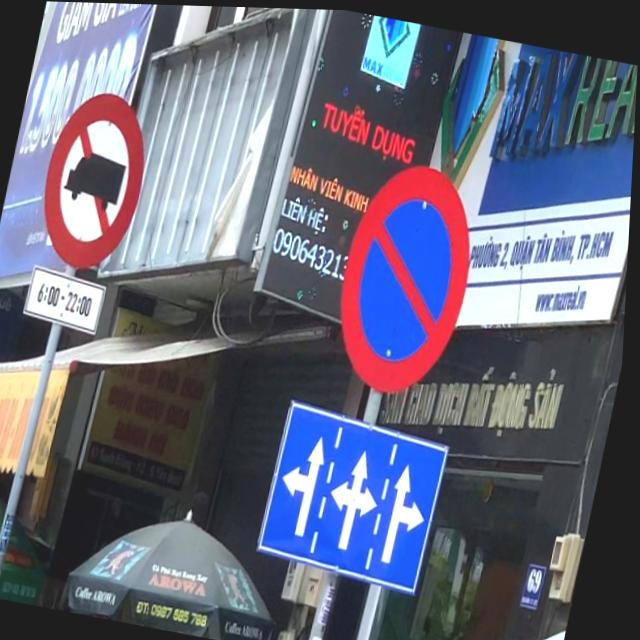Cam do xe: (326, 152, 493, 402)
Cam xe tai: (30, 82, 162, 278)
